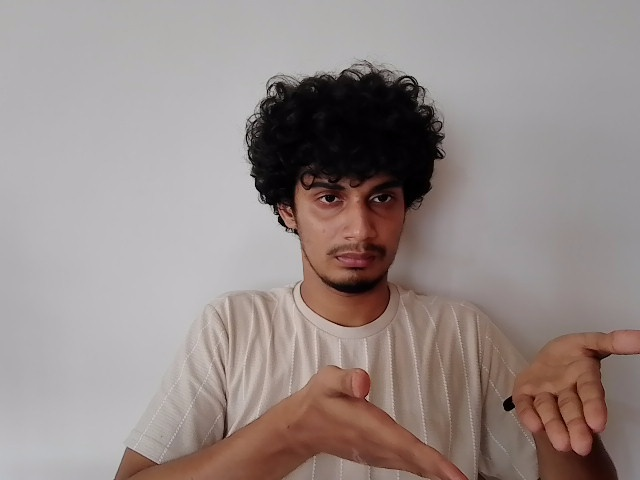here: (306, 328, 640, 480)
